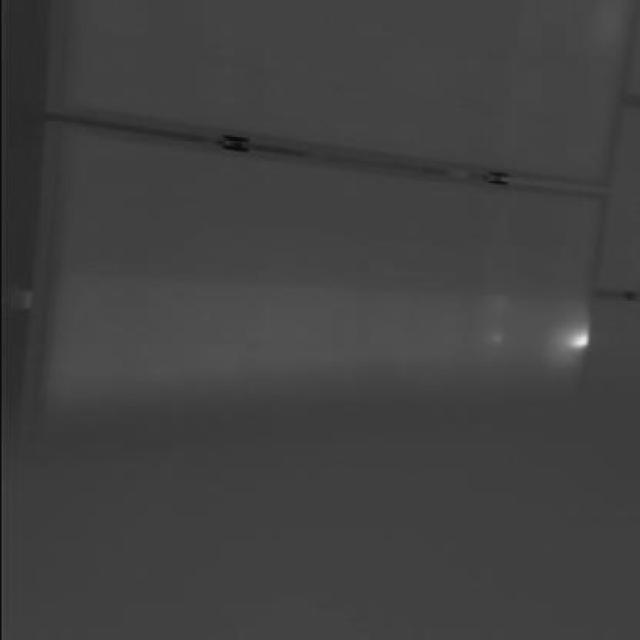hotspot: (558, 324, 594, 356)
